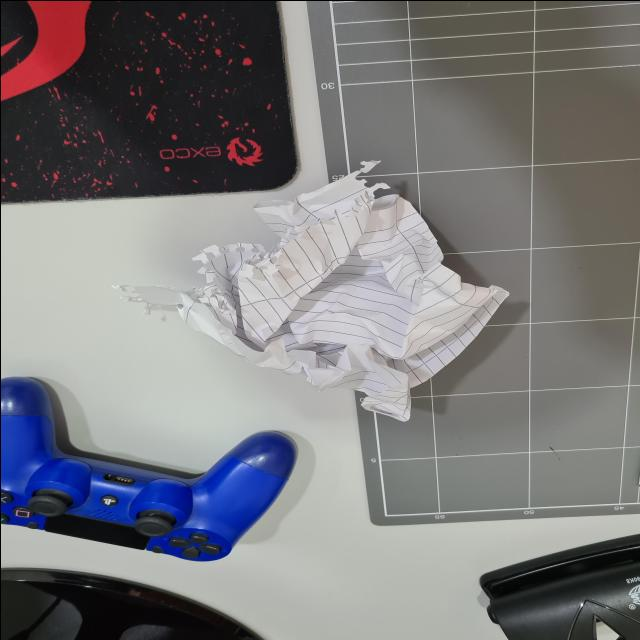kertas: (132, 177, 506, 426)
